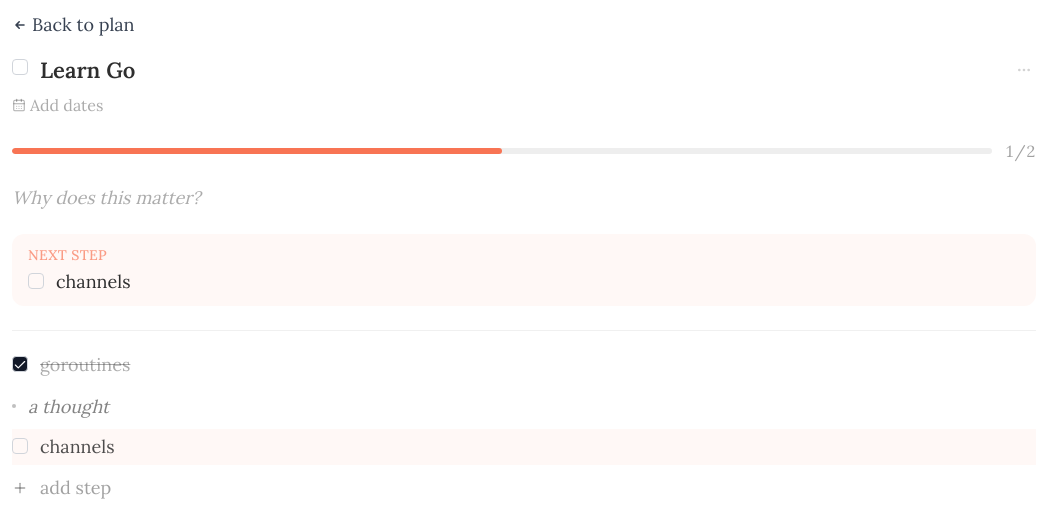
Test: MilestonePage steps and next step › rename (R30) › should save on blur, notes included
Click the button "a thought": [69, 406] box [28,395,1036,419]
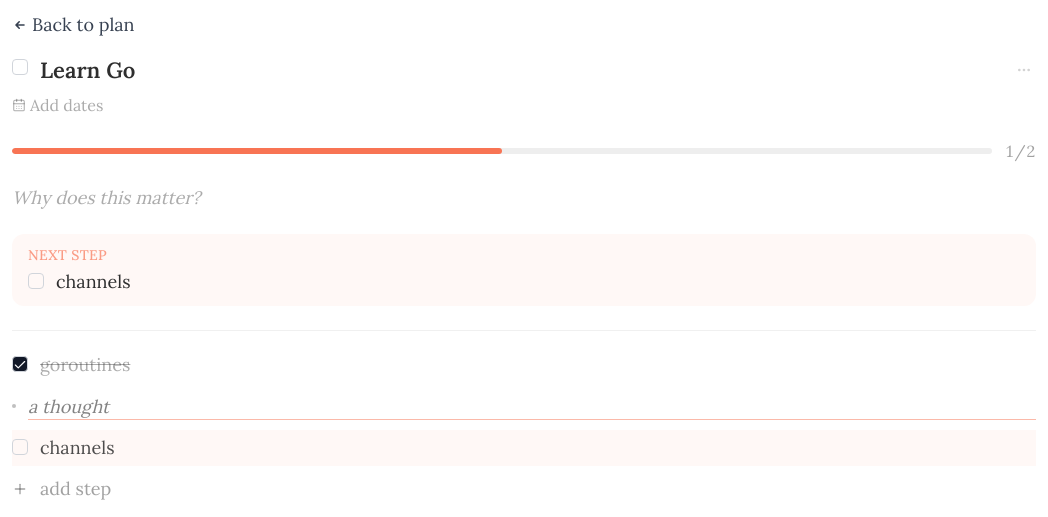
Replace the text in the field named "Rename a thought" with "a better thought": [532, 408] box [28,395,1036,420]
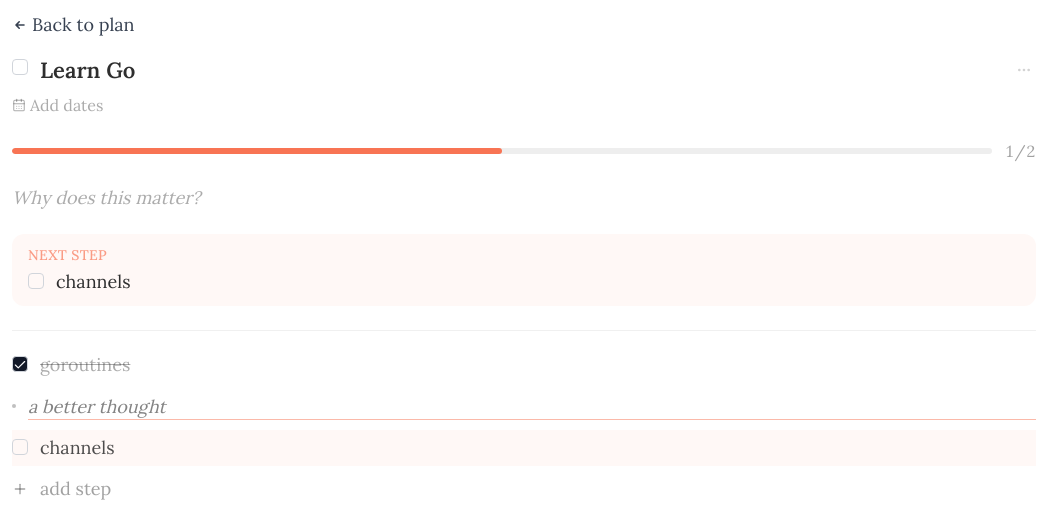
Leave the field named "Rename a thought", box [28,395,1036,420]
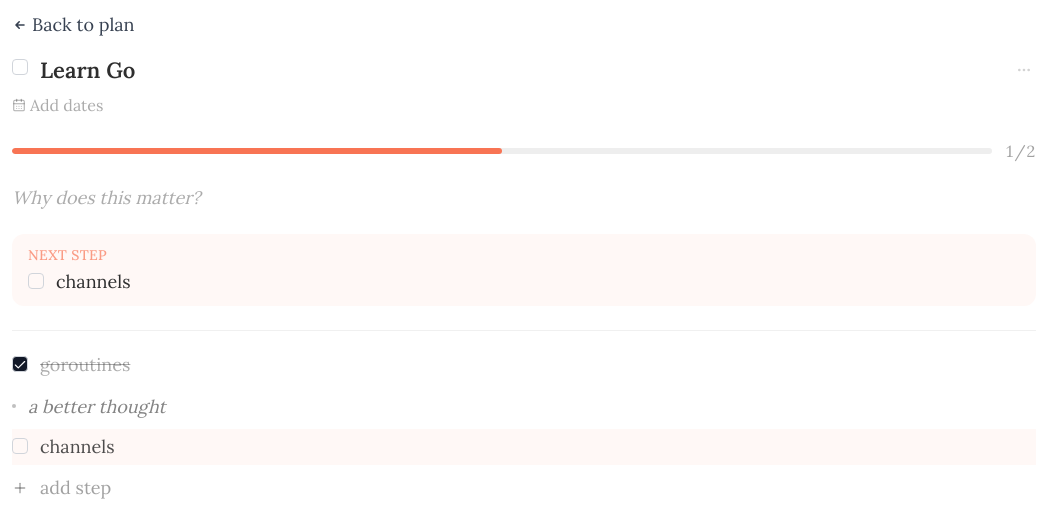
Expected: the button "a better thought" is shown, [28,395,1036,419]
